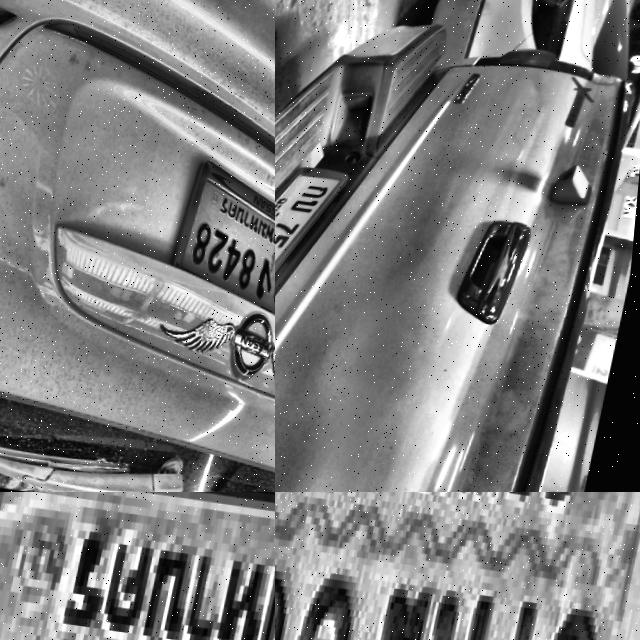license-plate: (275, 492, 640, 640), (0, 492, 275, 640), (170, 156, 275, 334), (421, 18, 499, 172)
